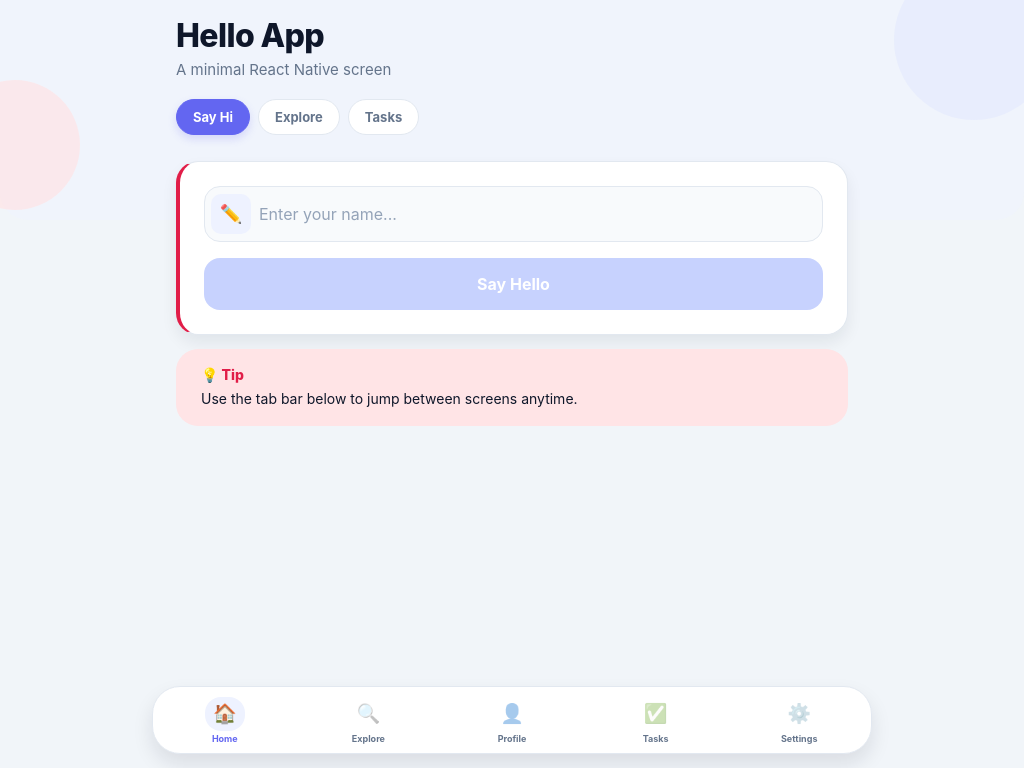
it: AppNavigator › navigates between tabs when a tab link is clicked
The width and height of the screenshot is (1024, 768).
Expected: the heading "Hello App" is shown, [176,16,324,55]
Click the link "⚙️ Settings" at (799, 723), box [781,702,817,744]
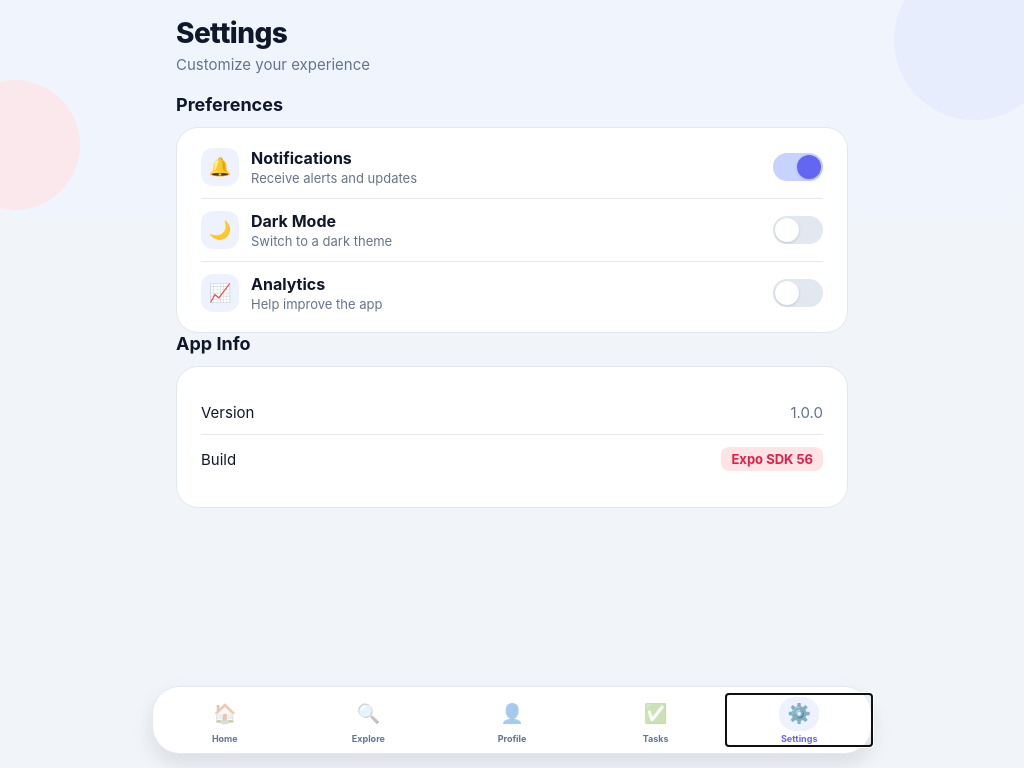
Expected: the heading "Settings" is shown, [176,16,287,50]
